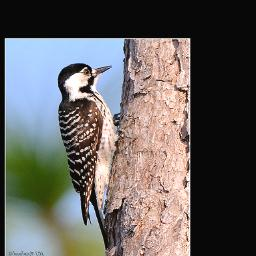Woodpecker: (54, 58, 125, 256)
